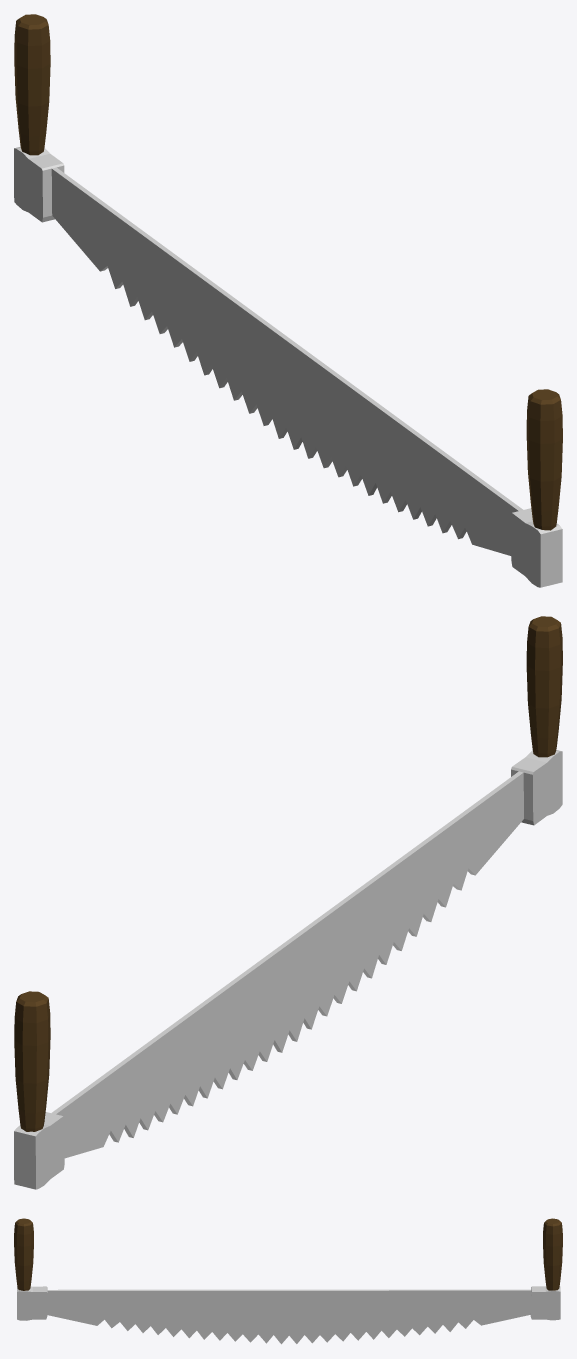
File: saw_bandsaw.glb
The picture shows the model from 3 angles, top to bottom: view 1: azimuth 30°, elevation 25°; view 2: azimuth 150°, elevation 25°; view 3: azimuth 270°, elevation 25°; orthographic projection. The views are drawn at different scales.
Parts seen in each view (by area): view 1: saw_bandsaw; view 2: saw_bandsaw; view 3: saw_bandsaw.
Boxes of the visible parts, box(x1,y1,x2,y2) form: saw_bandsaw: box(14, 14, 562, 587); saw_bandsaw: box(14, 616, 562, 1189); saw_bandsaw: box(14, 1218, 562, 1344).
Size of the model in its own units: 111 by 787 by 3199.
